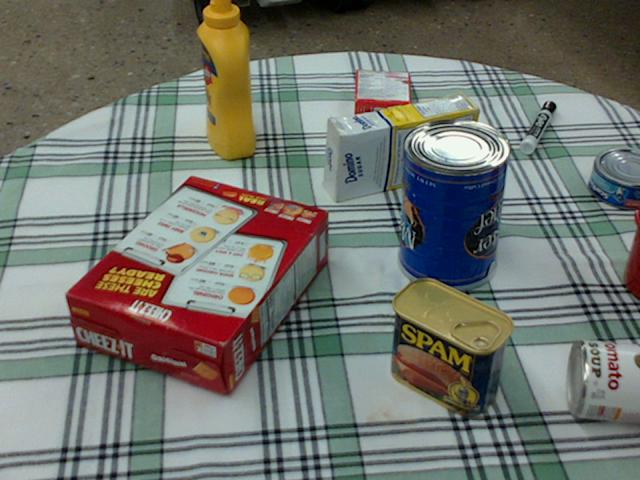cracker_box: (65, 178, 327, 393)
gelatin_box: (354, 69, 411, 120)
large_marker: (519, 100, 556, 152)
master_chef_can: (397, 118, 512, 289)
mug: (624, 204, 639, 299)
mustard_bottle: (196, 0, 254, 157)
potted_meat_can: (391, 278, 513, 414)
sugar_box: (324, 92, 478, 202)
tomato_soup_can: (569, 339, 639, 423)
tuna_fish_can: (589, 147, 639, 209)
